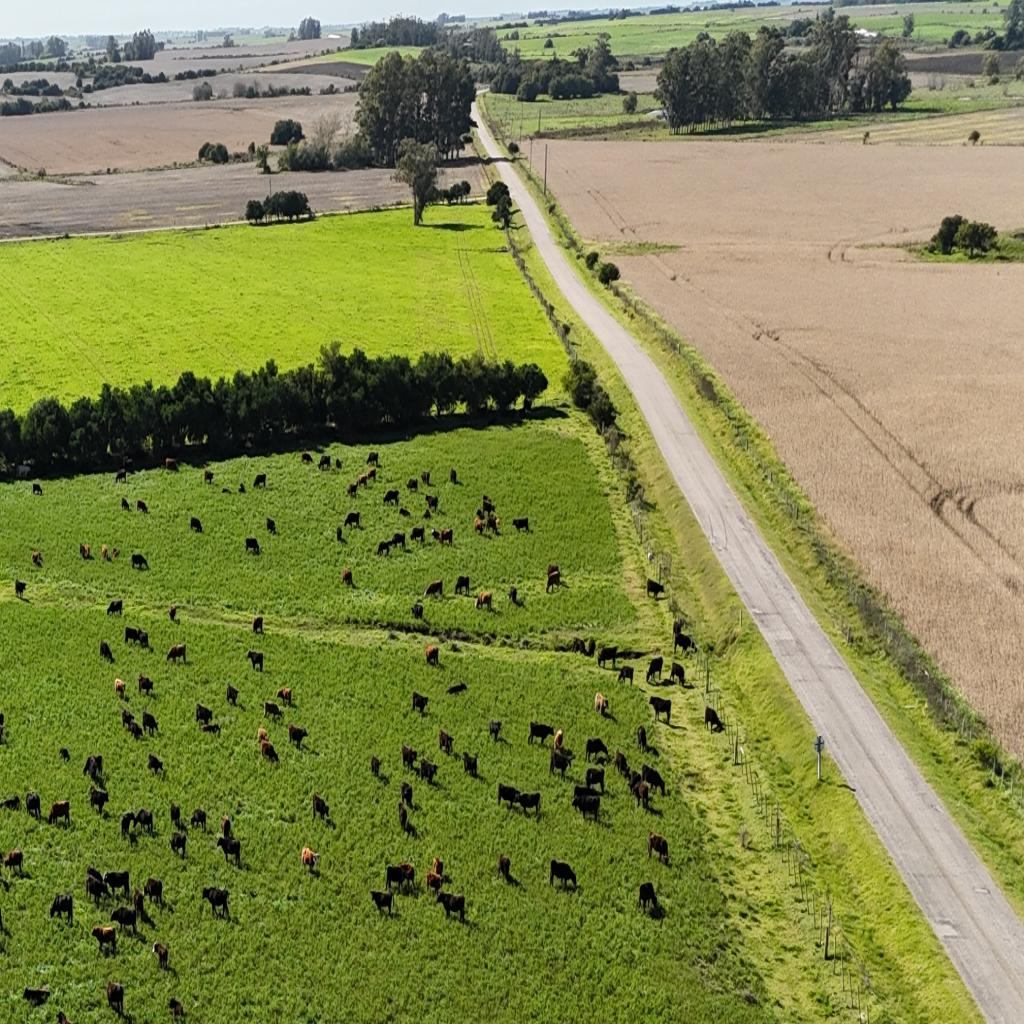cow: (202, 886, 230, 920), (549, 858, 577, 892), (572, 790, 600, 824), (384, 862, 412, 894), (436, 891, 464, 922), (109, 904, 137, 934), (103, 868, 130, 899), (91, 924, 117, 956), (642, 764, 665, 798), (49, 892, 73, 923), (85, 873, 107, 906), (217, 836, 241, 866), (370, 888, 394, 918), (648, 830, 668, 866), (638, 881, 658, 916), (516, 790, 541, 818), (47, 798, 70, 828), (106, 980, 125, 1016), (550, 750, 572, 780), (126, 883, 147, 914), (497, 783, 520, 811), (144, 876, 164, 908), (529, 721, 554, 746), (585, 737, 608, 764), (649, 695, 671, 723), (2, 848, 24, 876), (83, 754, 104, 782), (23, 986, 50, 1007), (300, 846, 320, 874), (134, 808, 154, 836), (312, 792, 330, 822), (89, 786, 108, 814), (585, 766, 604, 794), (632, 780, 649, 811), (419, 757, 438, 784), (704, 706, 723, 733), (288, 725, 308, 750), (152, 942, 169, 971), (572, 783, 594, 805), (598, 646, 618, 670), (614, 749, 630, 779), (614, 648, 646, 663), (25, 791, 42, 819), (646, 657, 663, 684), (170, 831, 186, 859), (462, 752, 478, 780), (438, 728, 454, 756), (402, 744, 418, 772), (669, 661, 686, 687), (425, 870, 442, 896), (166, 643, 186, 665), (646, 578, 664, 602), (124, 626, 144, 647), (121, 812, 136, 840), (546, 564, 561, 592), (169, 996, 185, 1022), (260, 740, 278, 763), (147, 753, 164, 777), (142, 712, 159, 736), (674, 631, 691, 655), (423, 579, 443, 599), (498, 854, 512, 882), (412, 691, 429, 714), (196, 703, 213, 726), (476, 589, 493, 611), (190, 808, 206, 831), (628, 770, 642, 796), (264, 700, 282, 720), (0, 794, 20, 812), (571, 636, 589, 656), (617, 666, 634, 687), (247, 650, 263, 672), (138, 674, 154, 696), (400, 780, 413, 807), (454, 575, 470, 596), (170, 803, 182, 831), (594, 692, 608, 716), (226, 682, 239, 707), (131, 554, 149, 572), (107, 598, 123, 618), (357, 470, 373, 490), (489, 718, 502, 742), (487, 512, 500, 536), (100, 640, 114, 662), (446, 682, 468, 696), (425, 644, 439, 666), (410, 526, 426, 545), (398, 804, 408, 834), (121, 709, 135, 730), (130, 720, 144, 741), (370, 754, 382, 778), (344, 512, 360, 530), (383, 489, 399, 507), (390, 531, 406, 549), (245, 537, 260, 556), (277, 687, 292, 706), (200, 722, 220, 736), (221, 814, 232, 839), (512, 517, 529, 533), (376, 540, 392, 557), (636, 725, 646, 752), (432, 857, 443, 881), (482, 495, 495, 515), (439, 528, 452, 548), (425, 494, 439, 512), (672, 619, 685, 638), (114, 677, 126, 697), (190, 516, 203, 534), (585, 637, 596, 658), (15, 580, 27, 598), (411, 602, 423, 620), (56, 1010, 71, 1024), (252, 616, 263, 635), (257, 727, 268, 746), (253, 474, 266, 490), (318, 455, 331, 471), (79, 543, 91, 560), (114, 469, 126, 486), (474, 516, 484, 536), (342, 568, 353, 586), (164, 459, 178, 473), (366, 451, 379, 466), (136, 499, 148, 514), (32, 550, 42, 568), (547, 564, 559, 579), (430, 528, 442, 543), (476, 506, 488, 521), (366, 466, 377, 482), (406, 478, 418, 492), (522, 396, 533, 411), (508, 585, 517, 603), (101, 544, 110, 562), (266, 518, 276, 534), (347, 484, 357, 500), (122, 456, 133, 470), (204, 470, 214, 485), (59, 748, 70, 761), (121, 497, 131, 511), (421, 470, 430, 485), (32, 484, 43, 496), (301, 452, 312, 464), (169, 606, 177, 622), (399, 507, 410, 518), (450, 640, 460, 652), (450, 468, 457, 484), (336, 525, 342, 542), (246, 438, 254, 450), (424, 508, 431, 520), (112, 547, 119, 558), (336, 458, 342, 470), (239, 482, 245, 493), (222, 487, 231, 493)
